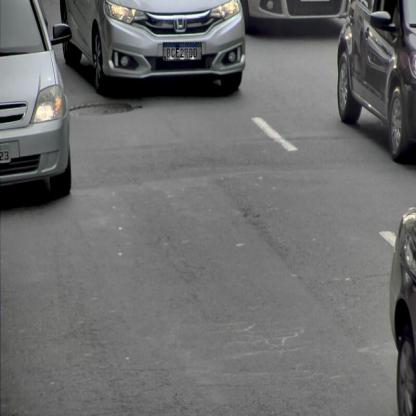PlacaM: (163, 42, 202, 61)
